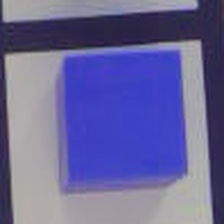cube: (44, 46, 195, 199)
